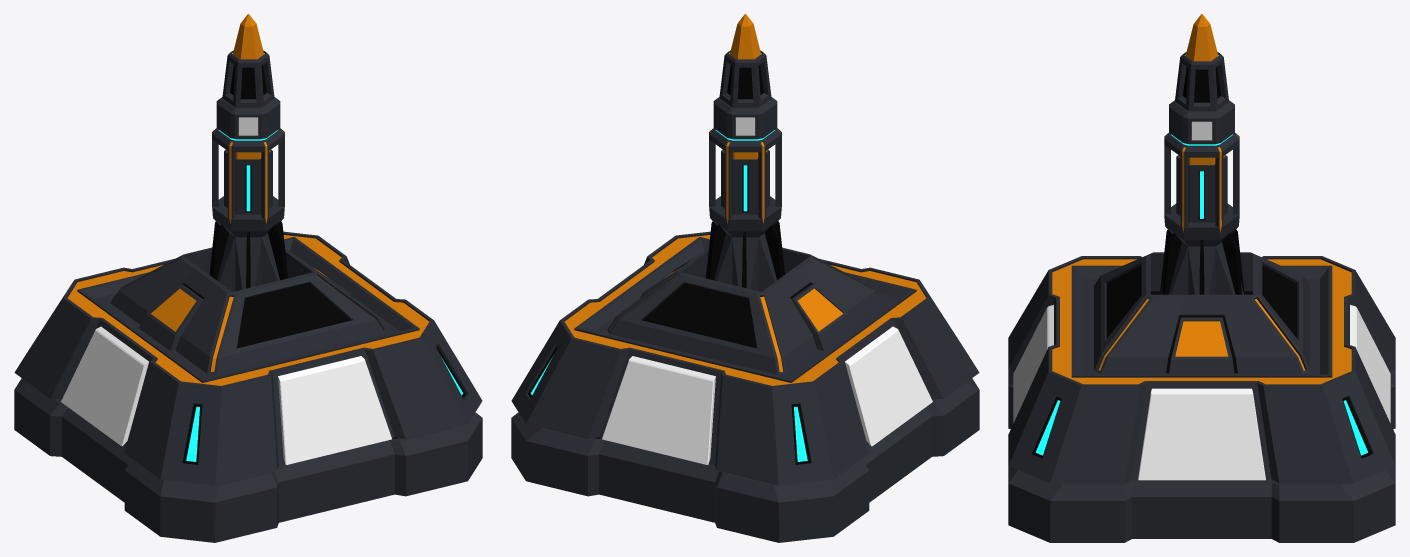
Rendered from SM_Turret_RocketPod.fbx.
3 views of the same model, side by side, from view 1: azimuth 30°, elevation 25°; view 2: azimuth 150°, elevation 25°; view 3: azimuth 270°, elevation 25° (orthographic). The views are drawn at different scales.
Visible parts, largest first — view 1: SM_Turret_RocketPod, SM_Turret_RocketPod_Base, SM_Turret_RocketPod_Launcher; view 2: SM_Turret_RocketPod, SM_Turret_RocketPod_Base, SM_Turret_RocketPod_Launcher; view 3: SM_Turret_RocketPod, SM_Turret_RocketPod_Base, SM_Turret_RocketPod_Launcher.
Boxes of the visible parts, box(x1,y1,x2,y2) form: SM_Turret_RocketPod: box(14, 231, 482, 542); SM_Turret_RocketPod_Base: box(110, 247, 386, 374); SM_Turret_RocketPod_Launcher: box(209, 14, 288, 291); SM_Turret_RocketPod: box(511, 231, 979, 542); SM_Turret_RocketPod_Base: box(607, 247, 883, 374); SM_Turret_RocketPod_Launcher: box(706, 14, 784, 291); SM_Turret_RocketPod: box(1008, 256, 1395, 542); SM_Turret_RocketPod_Base: box(1094, 252, 1309, 374); SM_Turret_RocketPod_Launcher: box(1160, 14, 1244, 294).
Size of the model in its own units: 1 by 1.27 by 1.
